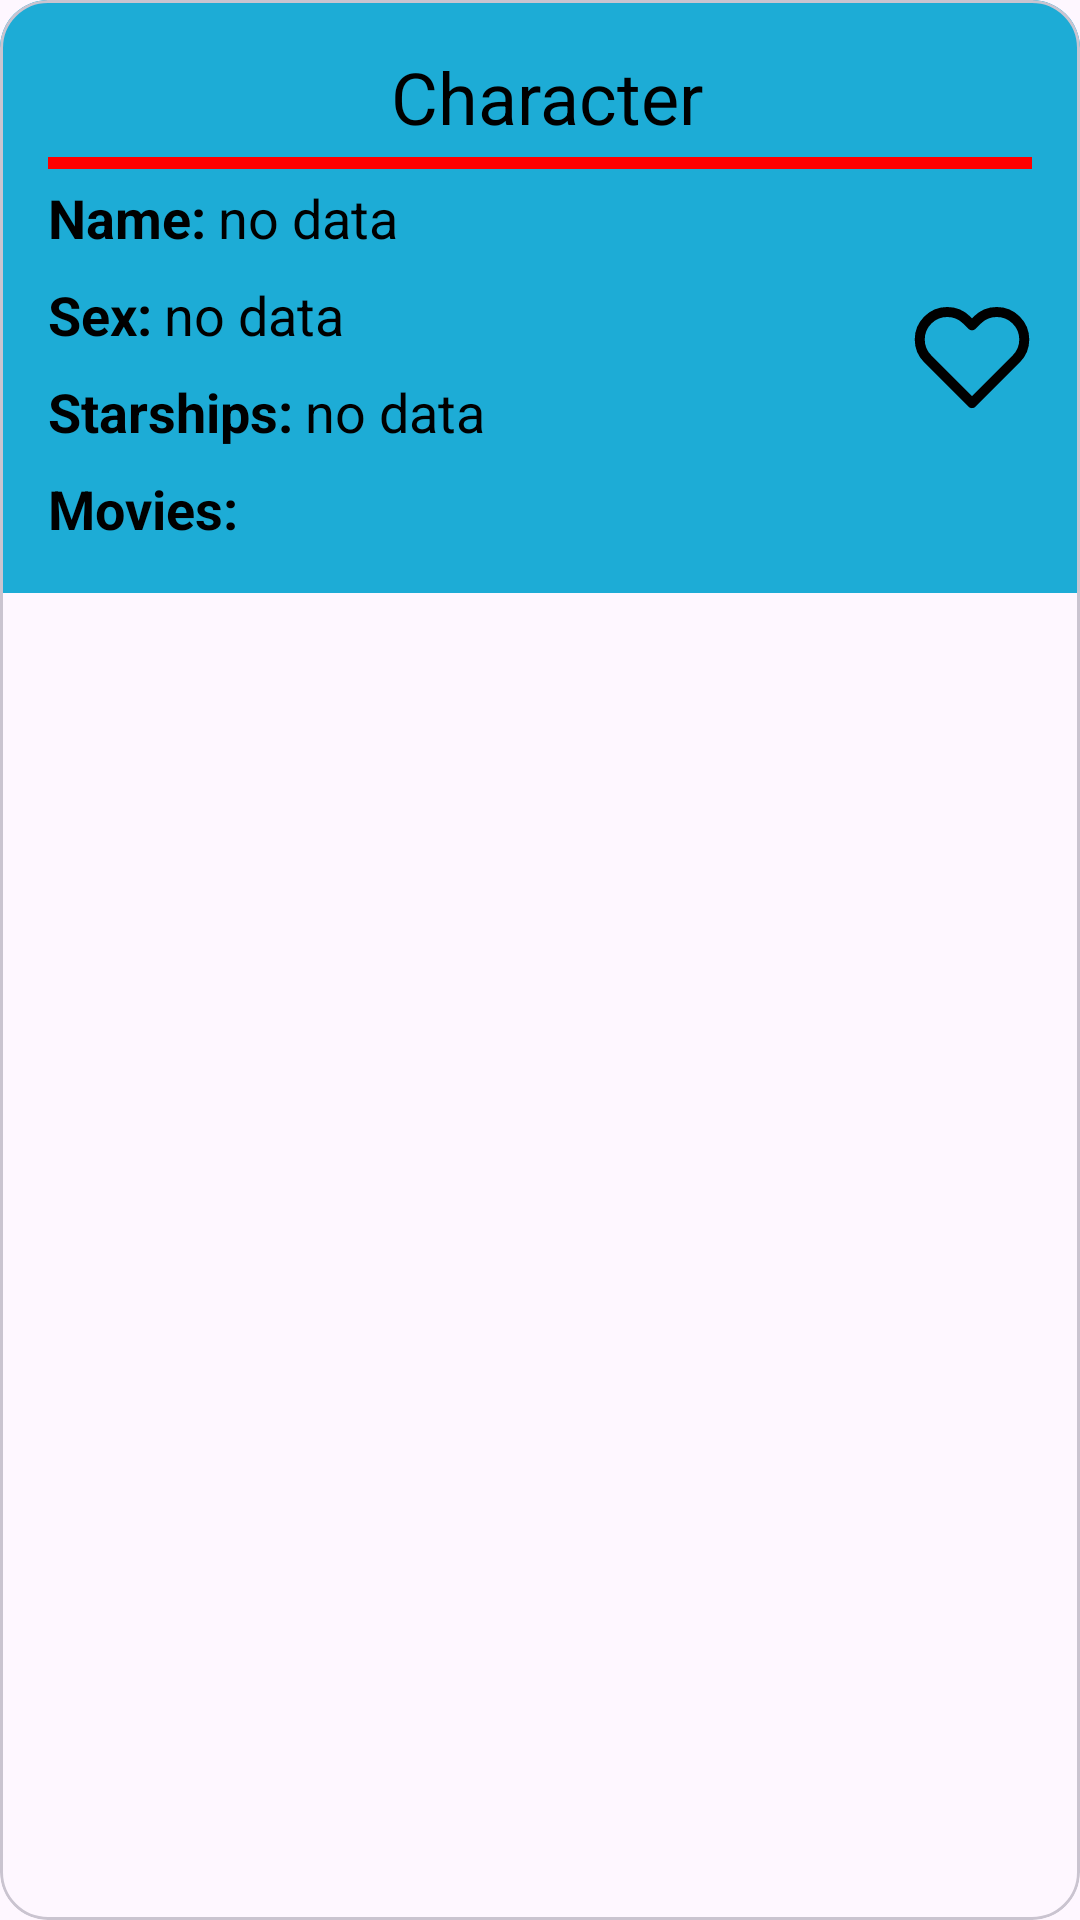

Icons on this 1080*1920 Android screen, each with its box as (x1, y1, x2, y2):
like: (914, 307, 1030, 408)
